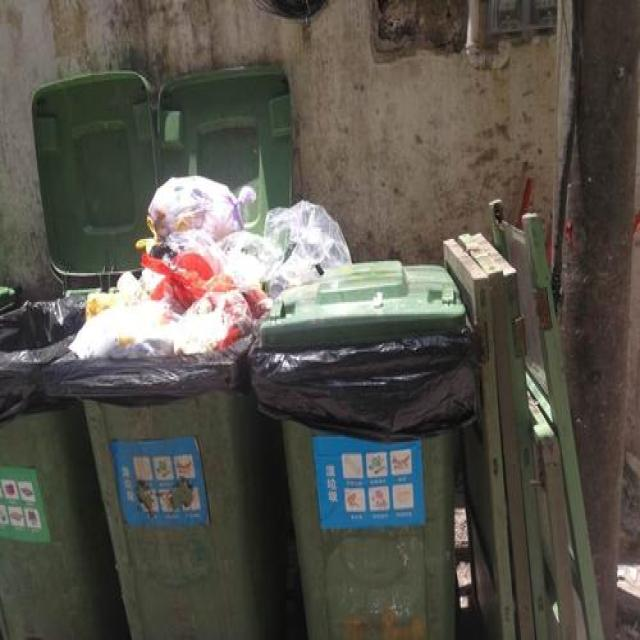garbage_bin: (252, 260, 474, 638), (0, 285, 109, 638)
overflow: (44, 172, 352, 638)
